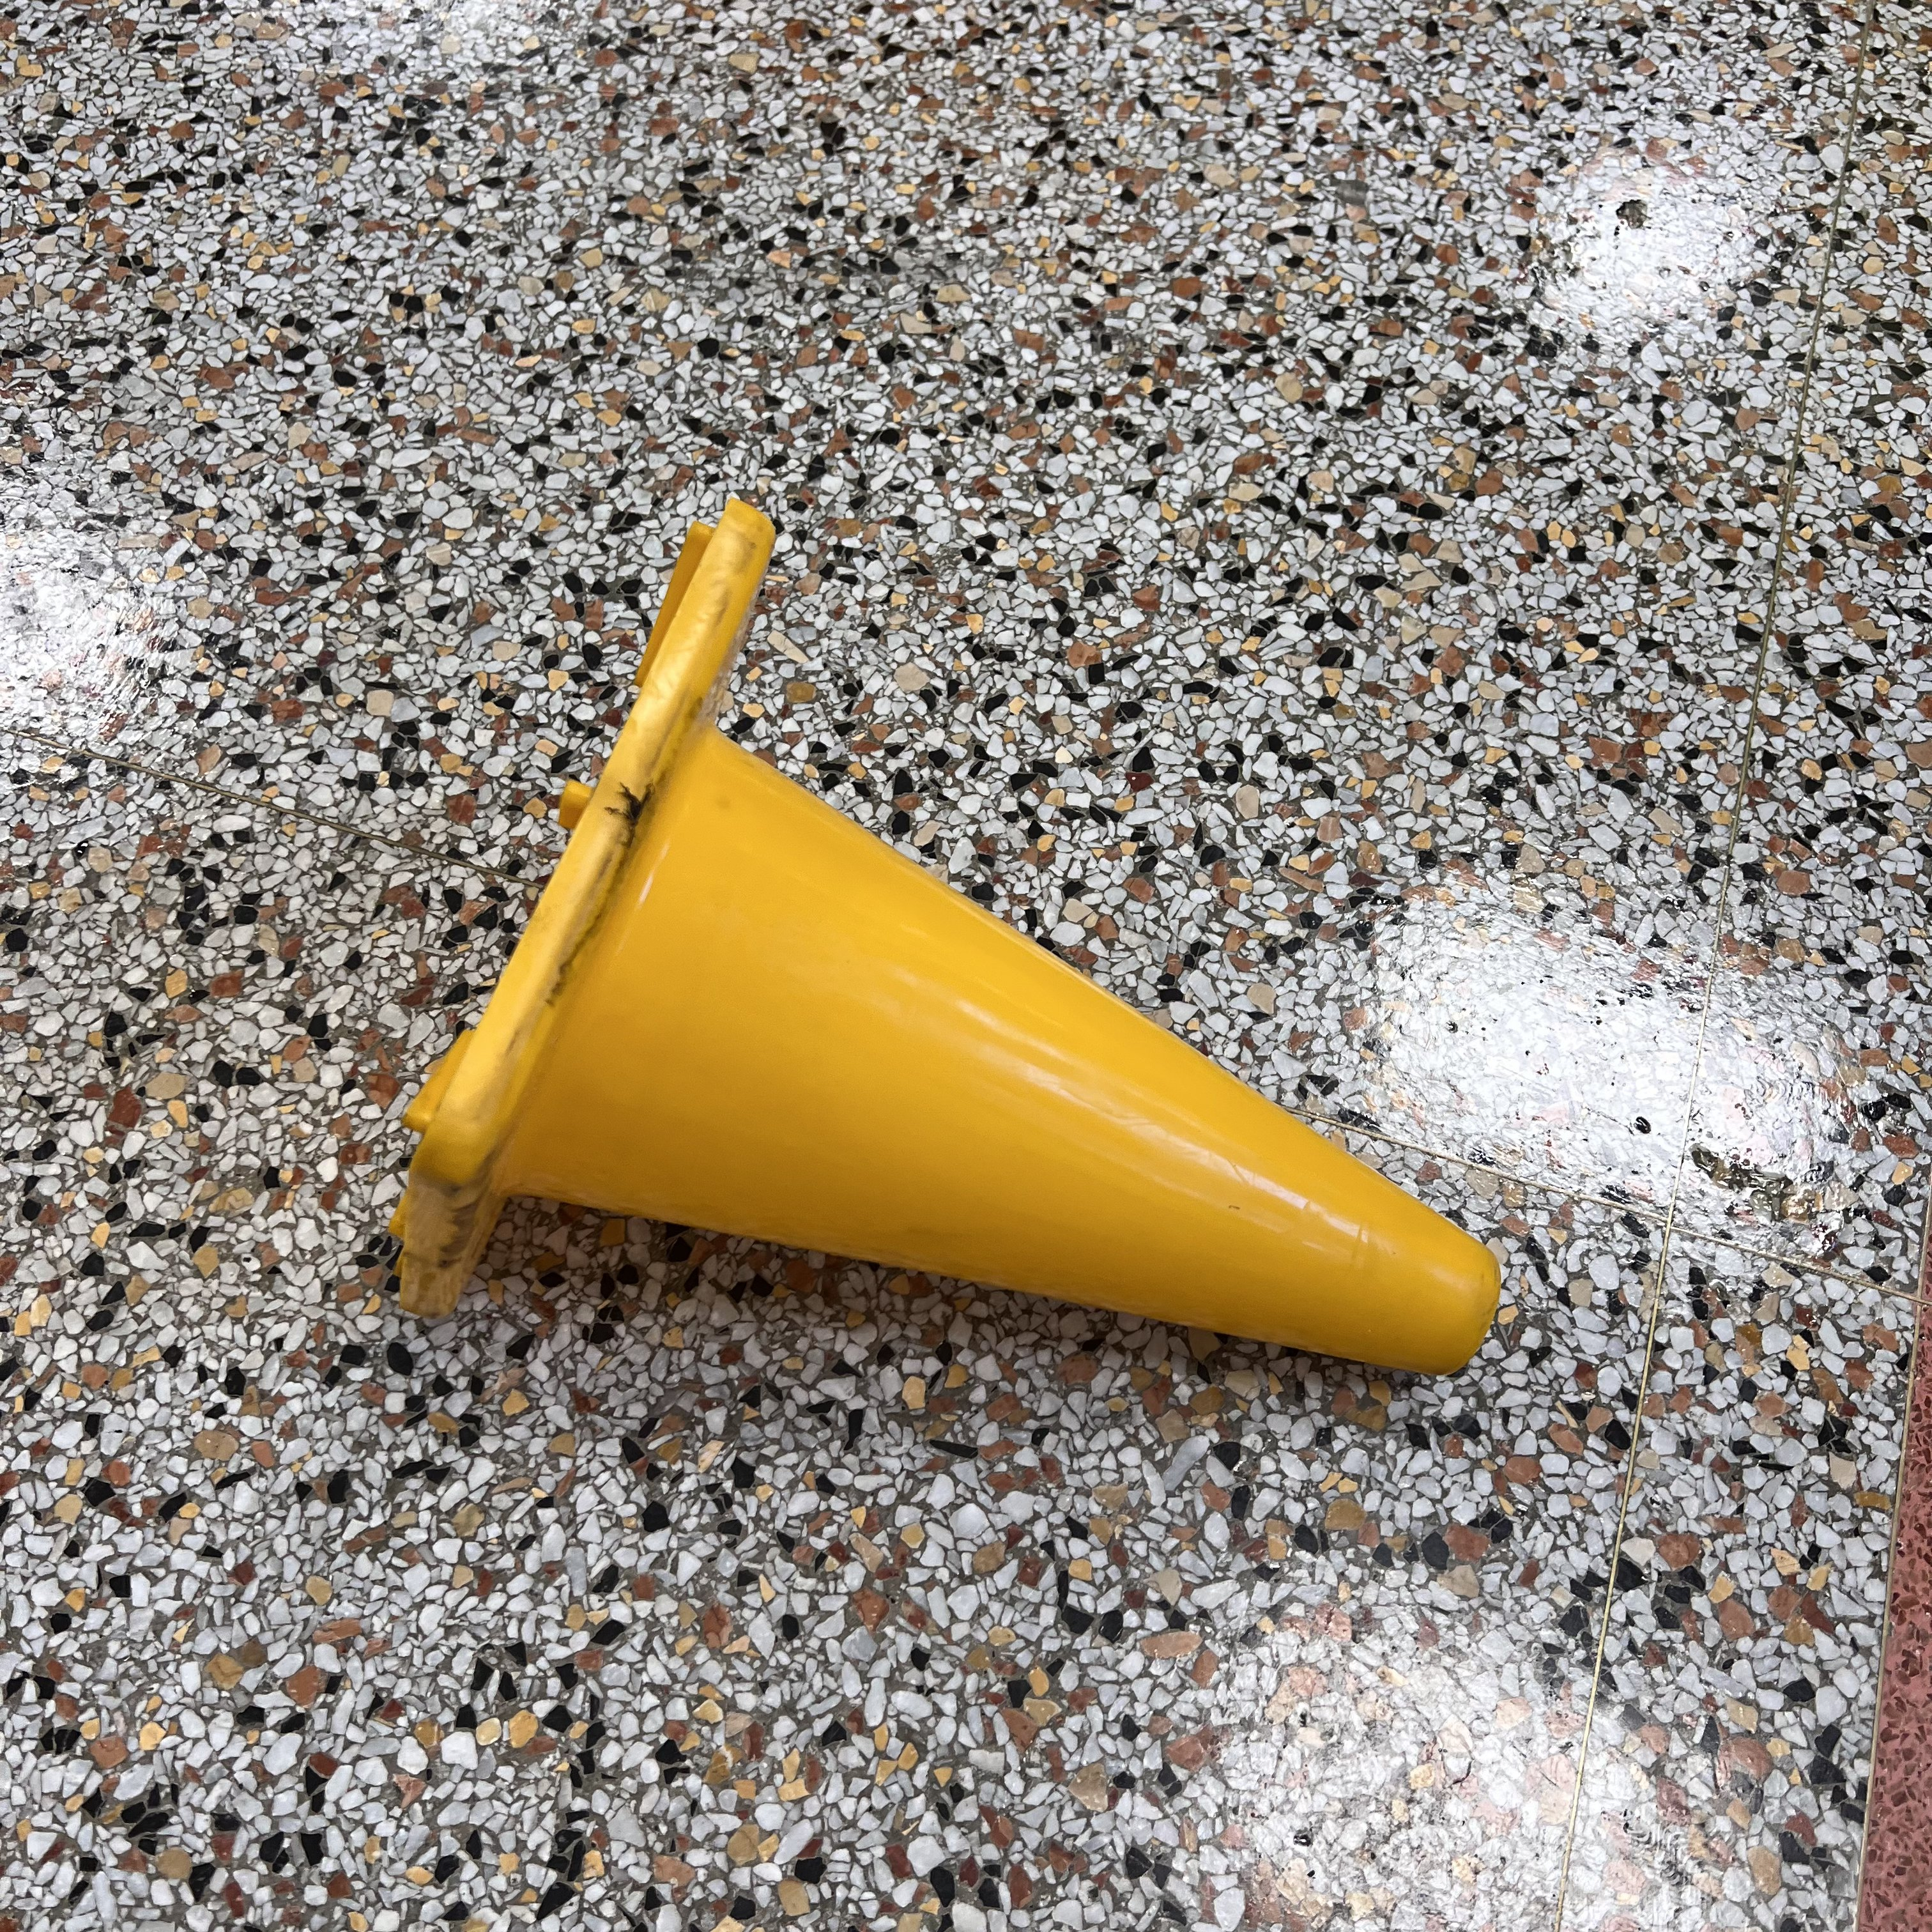cone: (384, 499, 1499, 1371)
